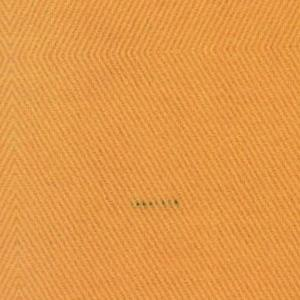stain: (124, 195, 189, 212)
